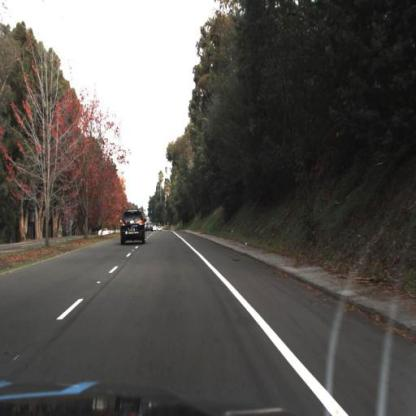car: (115, 208, 146, 251), (96, 223, 114, 242), (143, 219, 156, 239)
